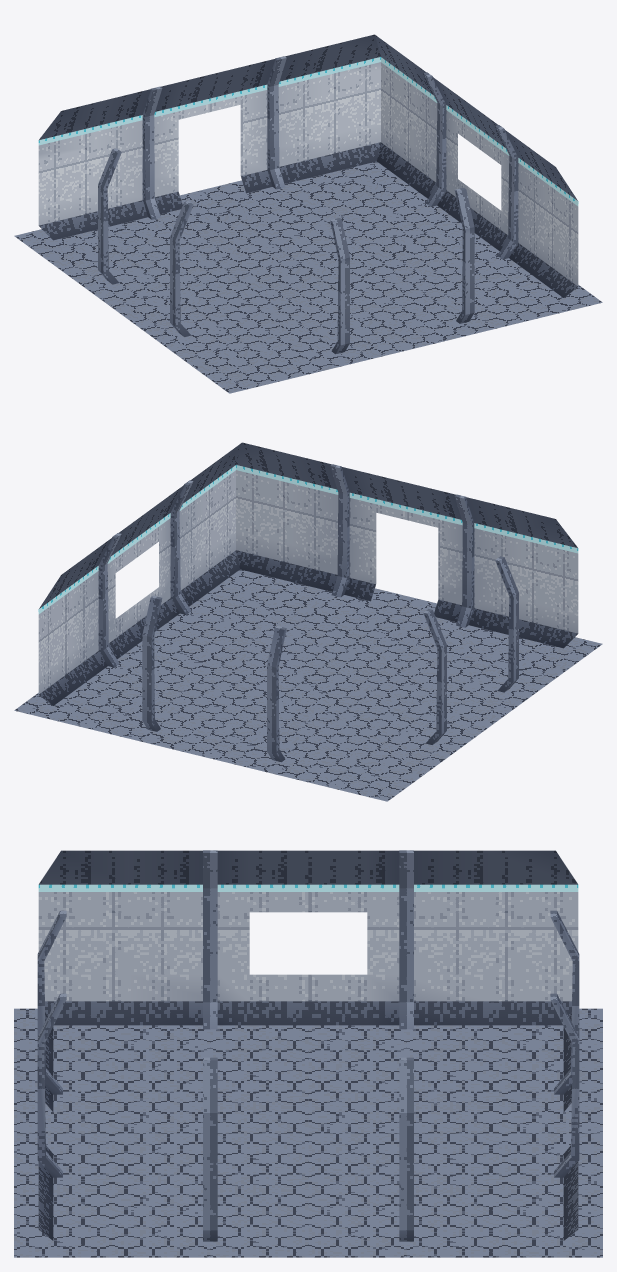
The model's file is stn.room__deck_3x3.glb.
The picture shows the model from 3 angles, top to bottom: view 1: azimuth 30°, elevation 25°; view 2: azimuth 150°, elevation 25°; view 3: azimuth 270°, elevation 25°; orthographic projection. The views are drawn at different scales.
Parts seen in each view (by area): view 1: kit_shell_floor, kit_shell_walls, kit_ribs; view 2: kit_shell_floor, kit_shell_walls, kit_ribs; view 3: kit_shell_floor, kit_shell_walls, kit_ribs.
Part boxes in pixels (x1=…): kit_shell_floor: x1=14, y1=161, x2=602, y2=393; kit_shell_walls: x1=38, y1=34, x2=578, y2=297; kit_ribs: x1=98, y1=56, x2=518, y2=354; kit_shell_floor: x1=14, y1=569, x2=602, y2=801; kit_shell_walls: x1=38, y1=442, x2=578, y2=705; kit_ribs: x1=98, y1=464, x2=518, y2=762; kit_shell_floor: x1=14, y1=1008, x2=602, y2=1257; kit_shell_walls: x1=38, y1=850, x2=578, y2=1240; kit_ribs: x1=37, y1=850, x2=579, y2=1241.
Bounding box in the file's own units: 12 × 4.01 × 12.
Materials: 5 (5 with a texture image).
